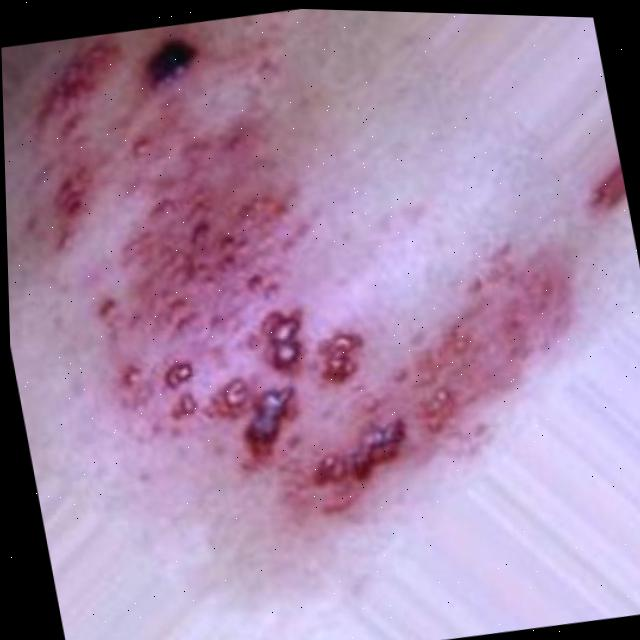Shingles: (7, 0, 607, 553)
